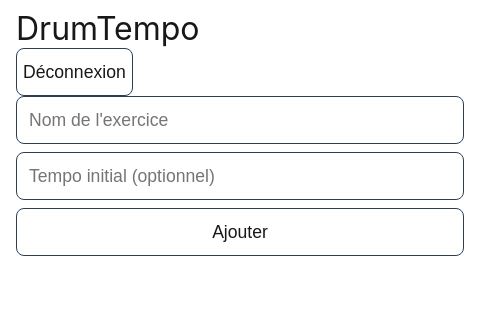
Test: App › se déconnecte et revient à l'écran de connexion
The width and height of the screenshot is (481, 318).
Click the button with test id "btn-deconnexion": {"x": 74, "y": 72} [16,48,133,96]
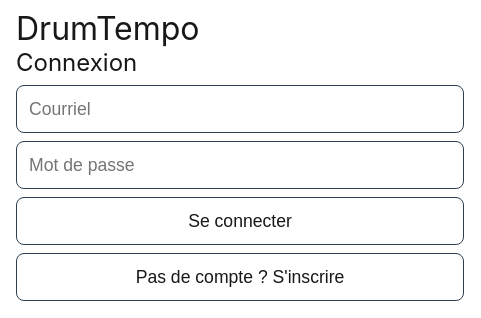
expect the number of "LoginForm" components is 1: met
